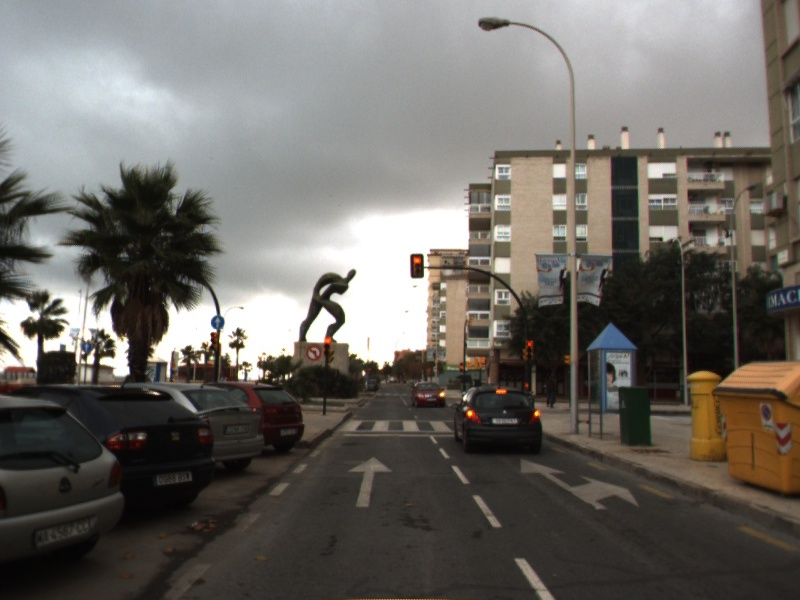STRAIGHT: (346, 455, 394, 509)
STRAIGHT_RIGHT: (519, 457, 642, 511)
